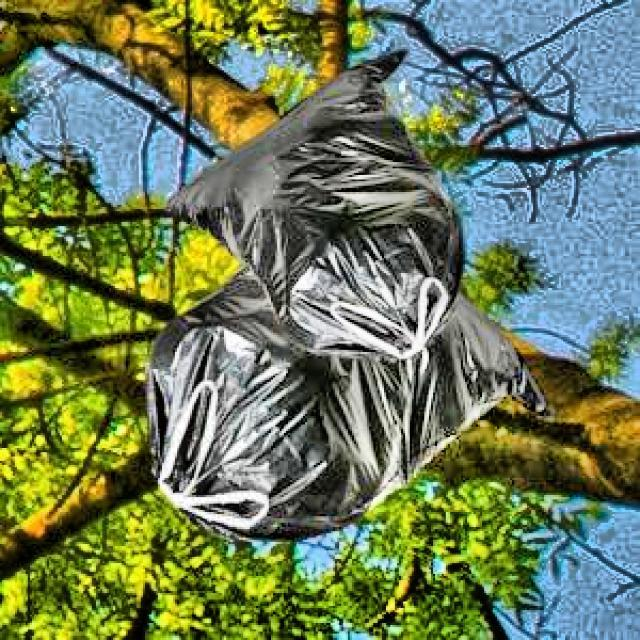Trashbag: (143, 301, 550, 547), (159, 45, 466, 353)
